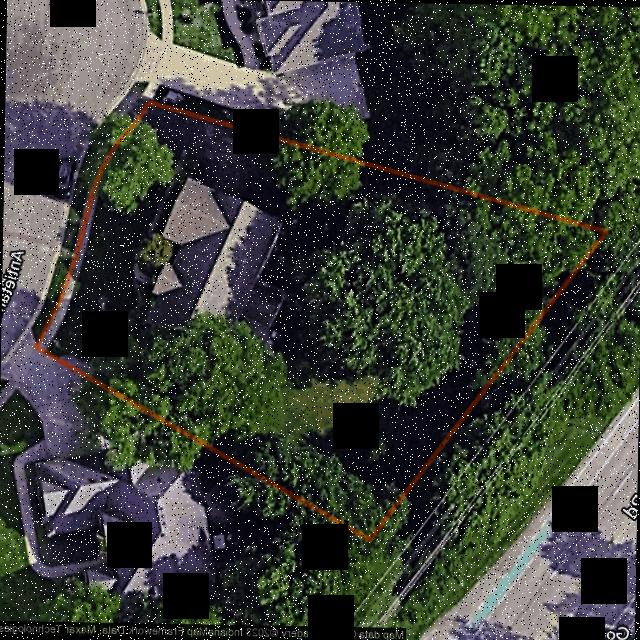Driveway: (139, 102, 258, 195)
Extra Driveway: (111, 82, 147, 117)
Extra Lawn: (30, 177, 89, 341), (153, 85, 276, 133)
House: (146, 178, 286, 349)
